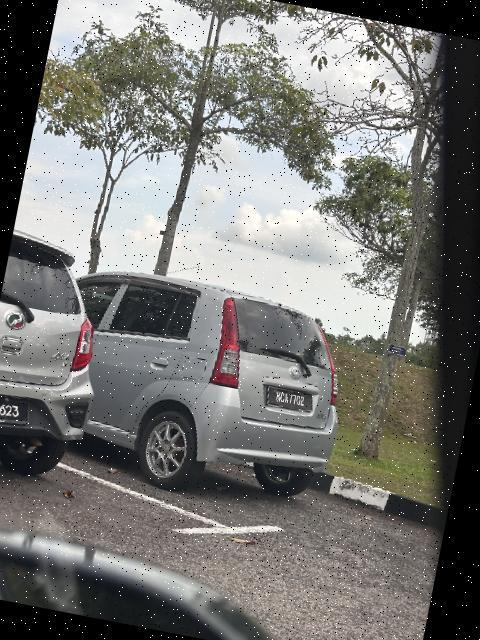License_Plate: (261, 382, 324, 418)
MCA7702: (261, 382, 324, 418)
car: (30, 254, 367, 527)
